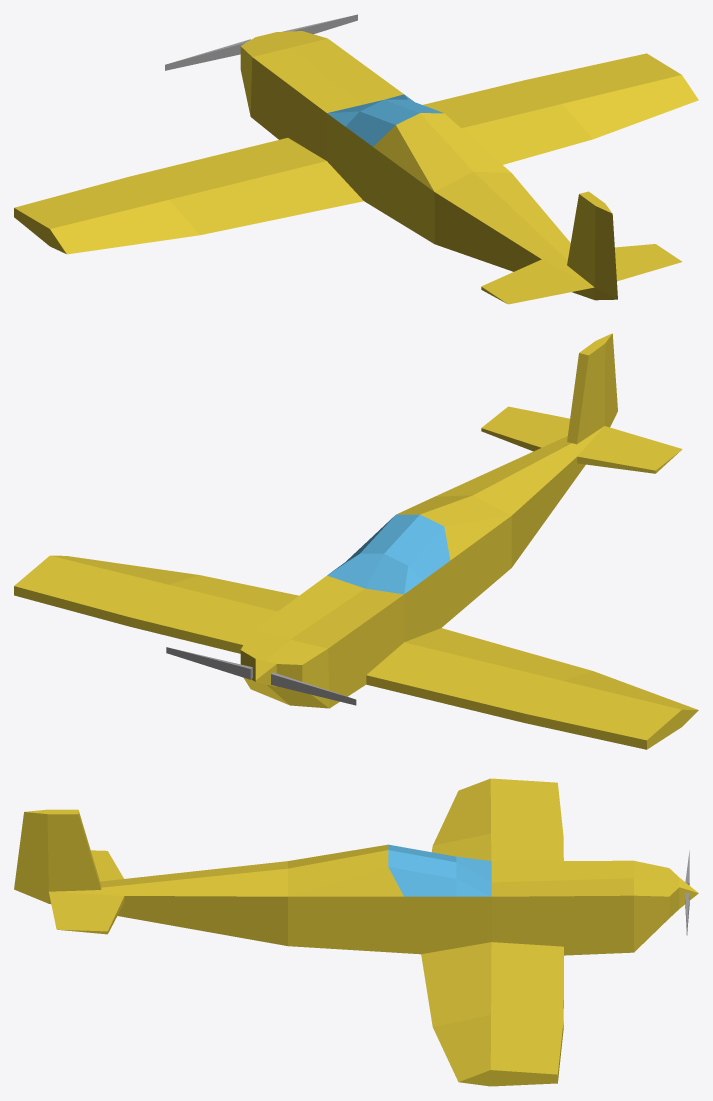
The picture shows the model from 3 angles, top to bottom: view 1: azimuth 30°, elevation 25°; view 2: azimuth 150°, elevation 25°; view 3: azimuth 270°, elevation 25°; orthographic projection. The views are drawn at different scales.
Visible parts, largest first — view 1: Body, Propeller; view 2: Body, Propeller; view 3: Body.
Boxes of the visible parts, x1,y1,x2,y2 form: Body: (14, 31, 698, 304); Propeller: (165, 14, 357, 70); Body: (14, 333, 698, 749); Propeller: (166, 647, 356, 705); Body: (14, 778, 698, 1086).
Bounding box in the file's own units: 2146 × 442 × 2128.
